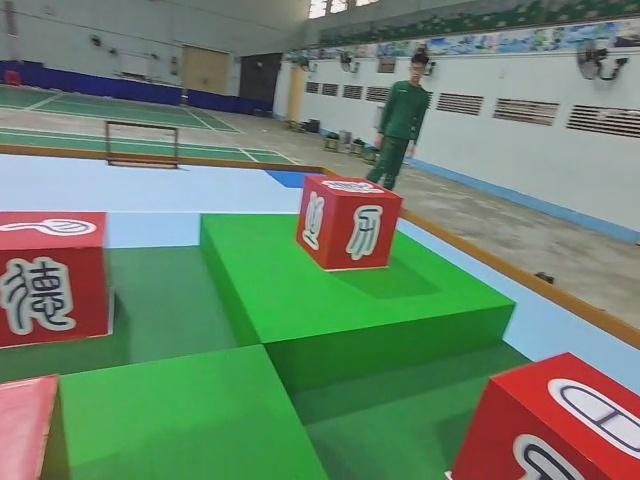R2 Fake: (450, 354, 640, 478), (0, 209, 110, 346), (296, 176, 404, 274)
